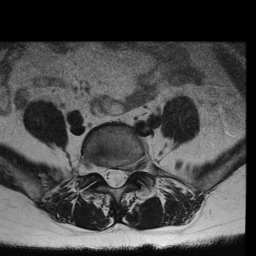CCS_normal: (110, 163, 119, 192)
LFS_normal: (127, 157, 136, 178)
LLS_normal: (120, 162, 126, 189)
RFS_normal: (92, 158, 101, 179)
RLS_normal: (102, 161, 110, 188)
